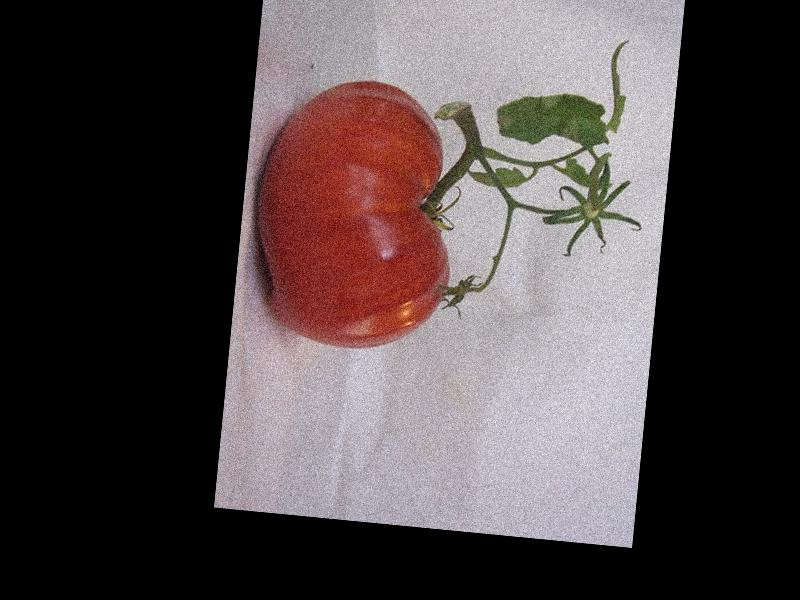Tomato: (243, 69, 466, 357)
